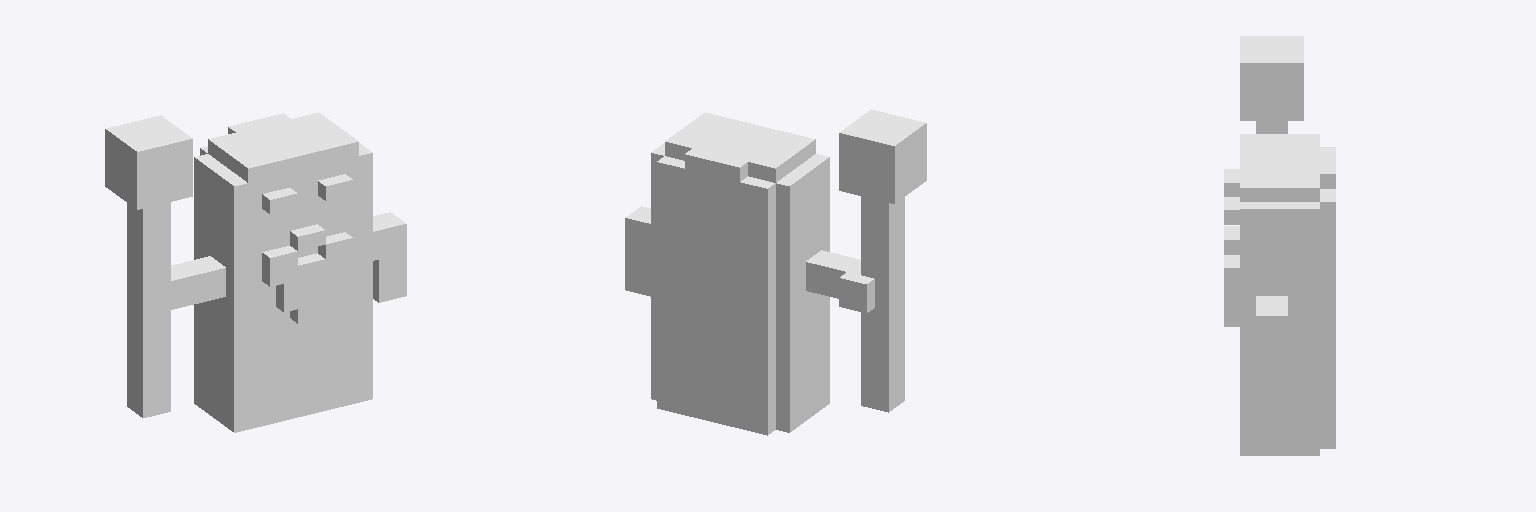
The model's file is Wizard_Fire.obj.
3 renders of one model, left to right at view 1: azimuth 30°, elevation 25°; view 2: azimuth 150°, elevation 25°; view 3: azimuth 270°, elevation 25°, orthographic.
Parts seen in each view (by area): view 1: object 1; view 2: object 1; view 3: object 1.
Boxes of the visible parts, x1=… form: object 1: x1=105, y1=112, x2=406, y2=432; object 1: x1=625, y1=109, x2=926, y2=435; object 1: x1=1224, y1=36, x2=1335, y2=455.
Bounding box in the file's own units: 2 × 2.1 × 0.7.